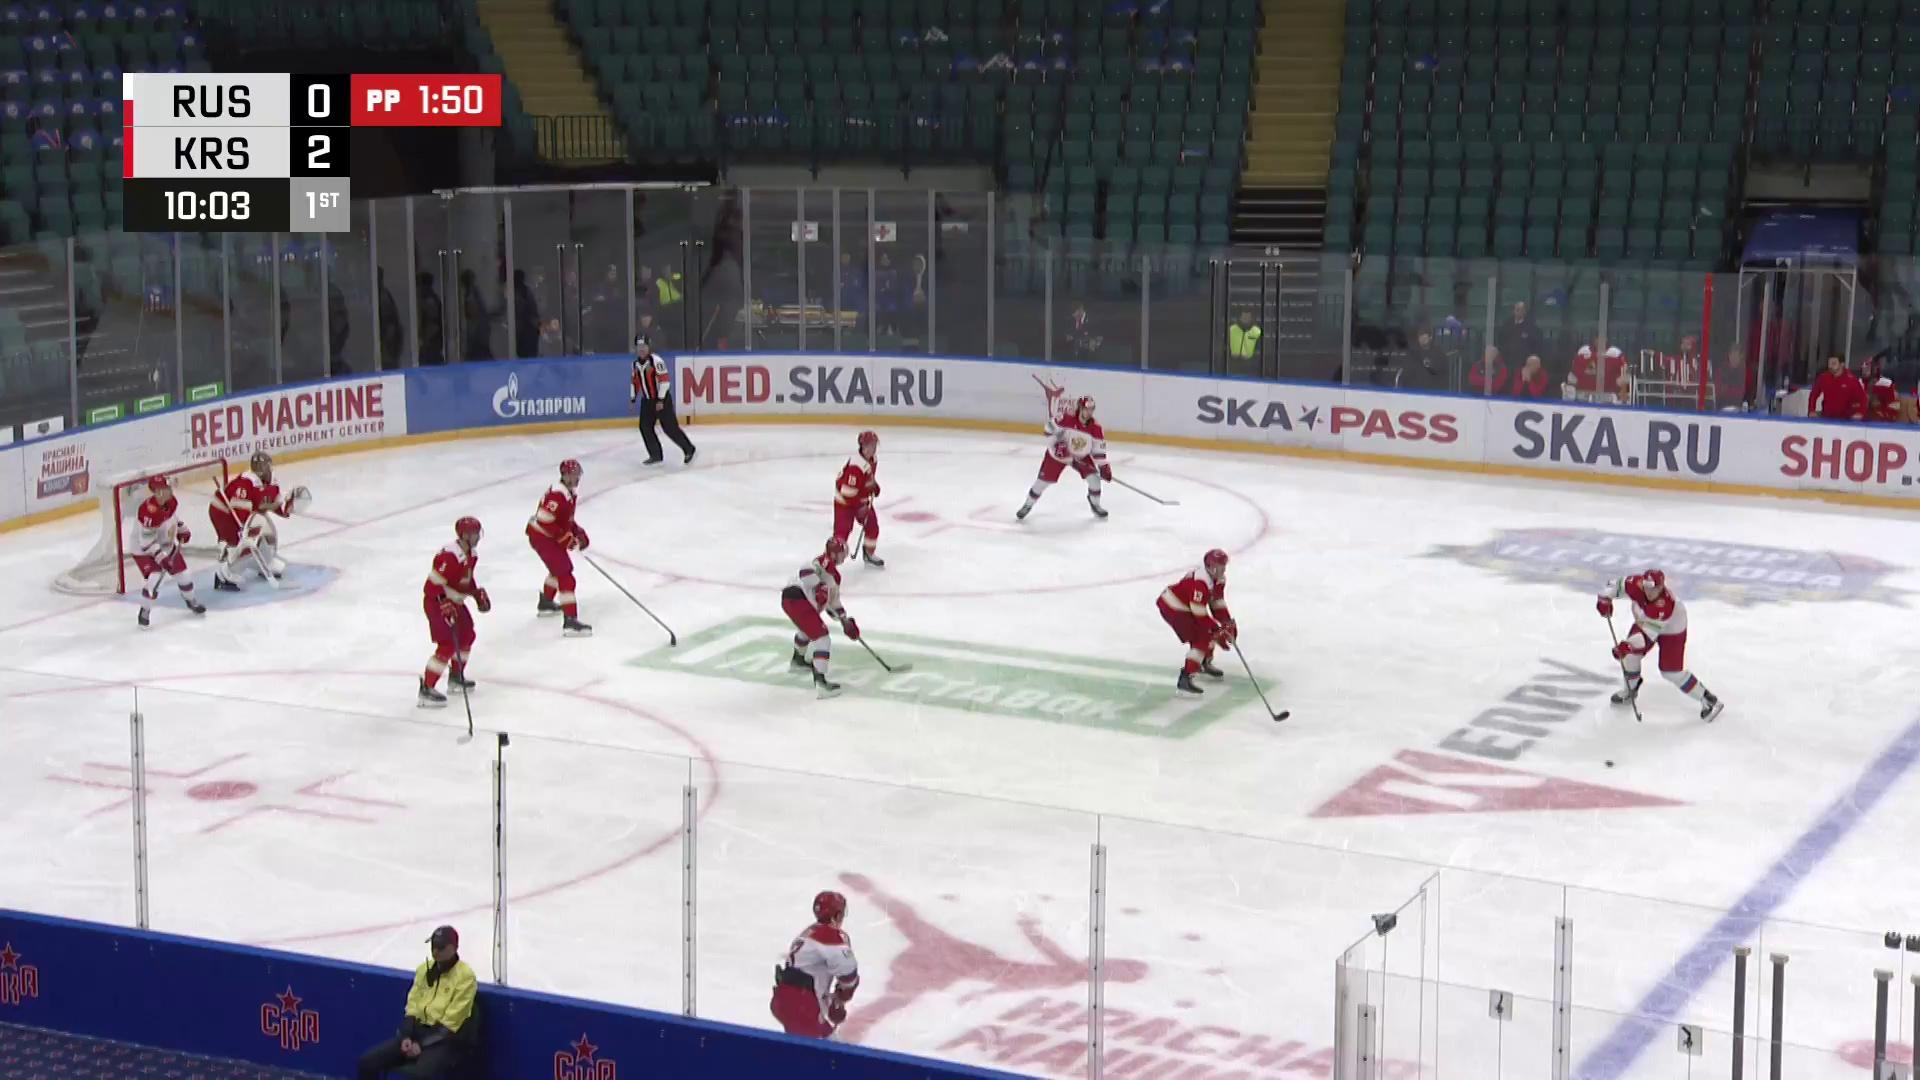ball: (1604, 758, 1617, 770)
